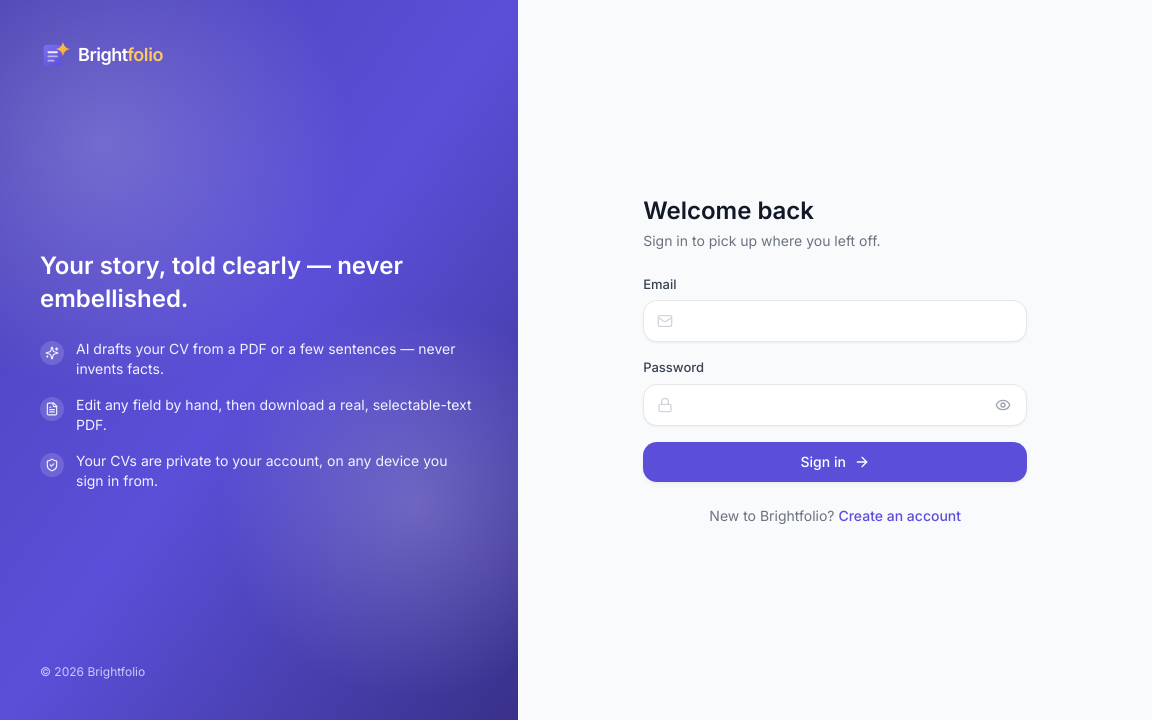
Test: LoginPage › falls back to a generic message when the error has none
Type "jane@example.com" into the field labelled "Email" at (835, 321), box [643, 300, 1027, 342]
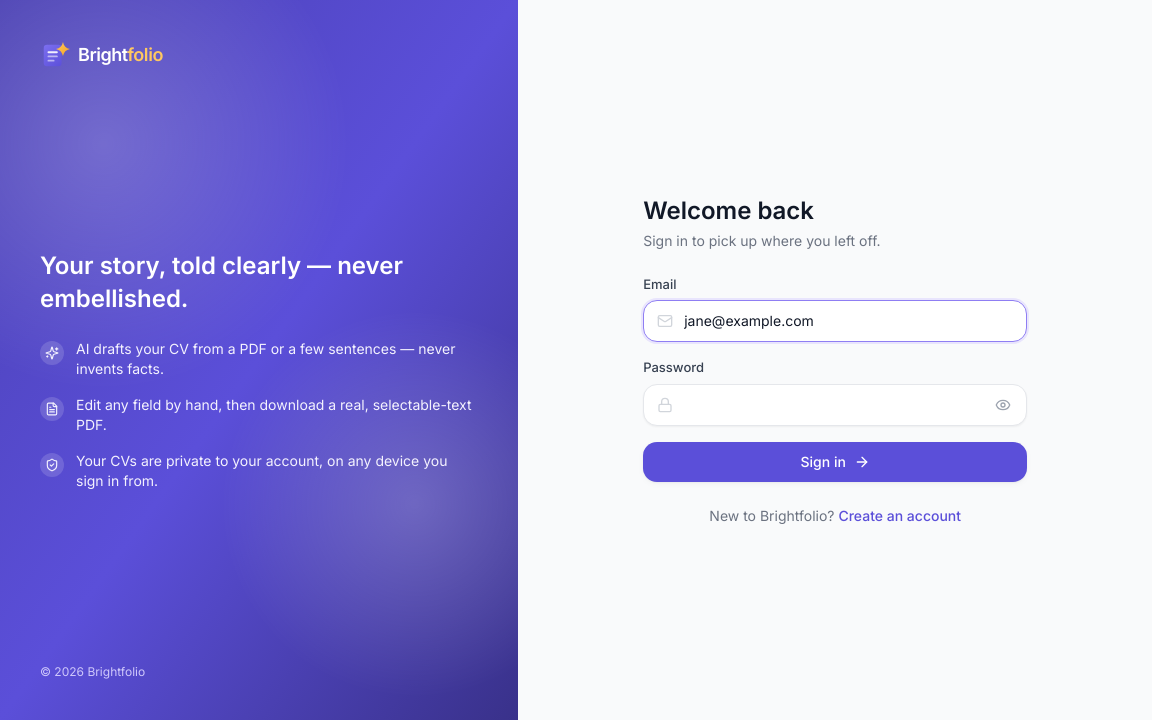
Type "wrong" into the password field labelled "Password" at (835, 404), box [643, 384, 1027, 426]
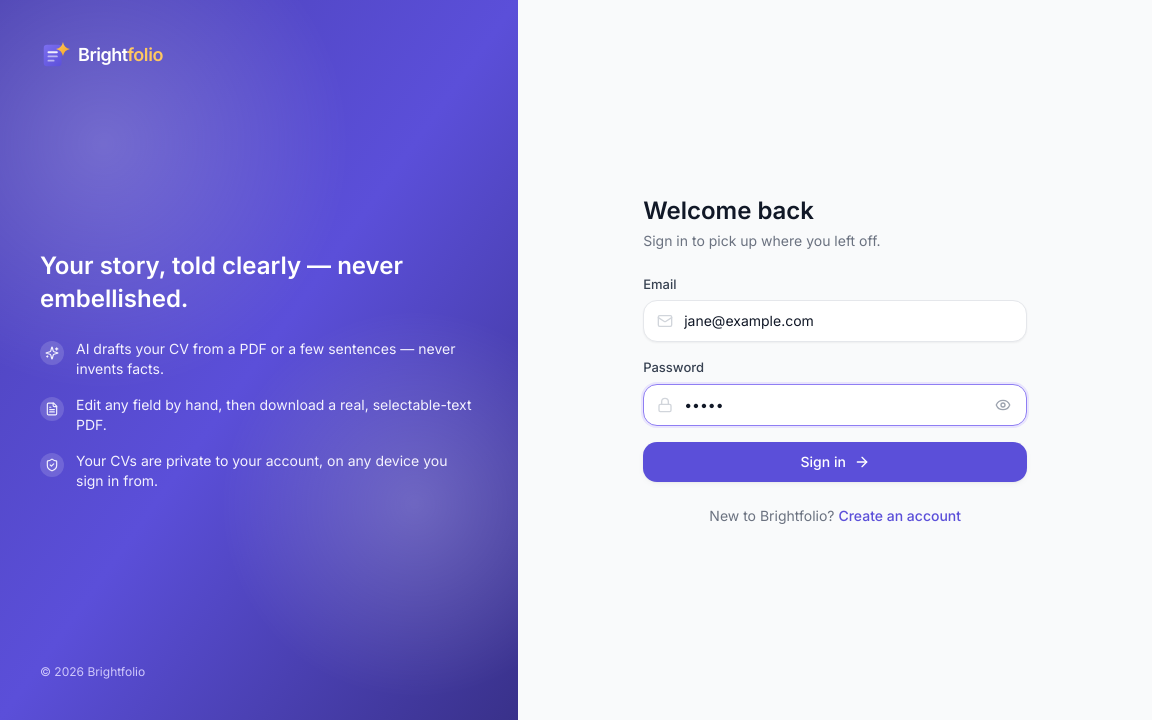
Click the button "Sign in" at (835, 462), box [643, 442, 1027, 482]
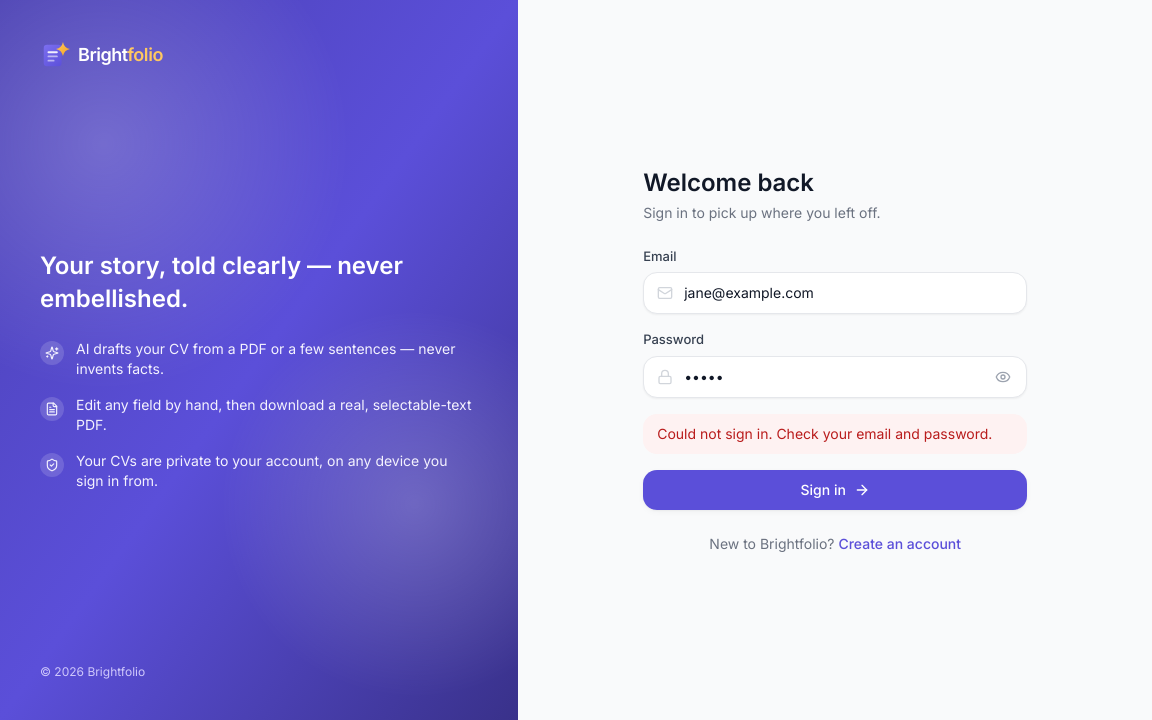
Result: the text "Could not sign in. Check your email and password." is shown at [643, 414, 1027, 454]
